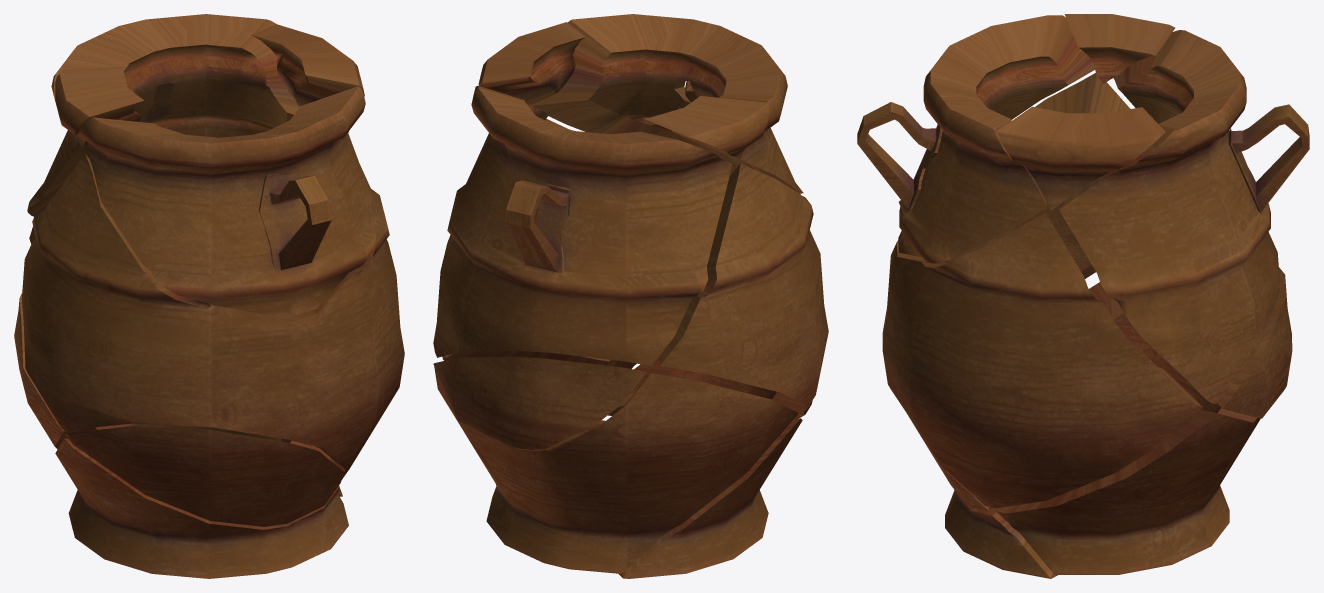
Rendered from brokebottle2.fbx.
3 renders of one model, left to right at view 1: azimuth 30°, elevation 25°; view 2: azimuth 150°, elevation 25°; view 3: azimuth 270°, elevation 25°, orthographic.
Parts seen in each view (by area): view 1: polySurface10, polySurface19, polySurface17, polySurface16, polySurface15, polySurface20, polySurface6, polySurface4, polySurface13; view 2: polySurface17, polySurface13, polySurface10, polySurface19, polySurface12, polySurface15, polySurface6, polySurface4, polySurface18, polySurface16; view 3: polySurface10, polySurface17, polySurface19, polySurface13, polySurface6, polySurface12, polySurface4, polySurface15, polySurface20, polySurface18, polySurface16.
Part boxes in pixels (x1,y1,x2,y2): polySurface10: (21, 154, 404, 479); polySurface19: (78, 86, 376, 318); polySurface17: (27, 14, 299, 243); polySurface16: (65, 426, 344, 526); polySurface15: (55, 438, 348, 578); polySurface20: (259, 173, 331, 281); polySurface6: (251, 24, 364, 132); polySurface4: (55, 66, 144, 148); polySurface13: (14, 293, 342, 496); polySurface17: (433, 86, 731, 365); polySurface13: (434, 367, 798, 573); polySurface10: (442, 119, 828, 406); polySurface19: (531, 14, 803, 193); polySurface12: (433, 356, 646, 449); polySurface15: (576, 418, 802, 578); polySurface6: (478, 22, 584, 104); polySurface4: (643, 96, 769, 159); polySurface18: (505, 180, 569, 275); polySurface16: (608, 357, 812, 419); polySurface10: (882, 72, 1202, 508); polySurface17: (1059, 30, 1279, 404); polySurface19: (898, 15, 1094, 263); polySurface13: (996, 282, 1260, 574); polySurface6: (997, 106, 1165, 210); polySurface12: (1218, 267, 1292, 418); polySurface4: (1064, 14, 1175, 83); polySurface15: (945, 489, 1057, 578); polySurface20: (857, 102, 942, 214); polySurface18: (1228, 104, 1309, 214); polySurface16: (908, 416, 988, 510).
Size of the model in its own units: 48.57 by 62.8 by 57.24.
